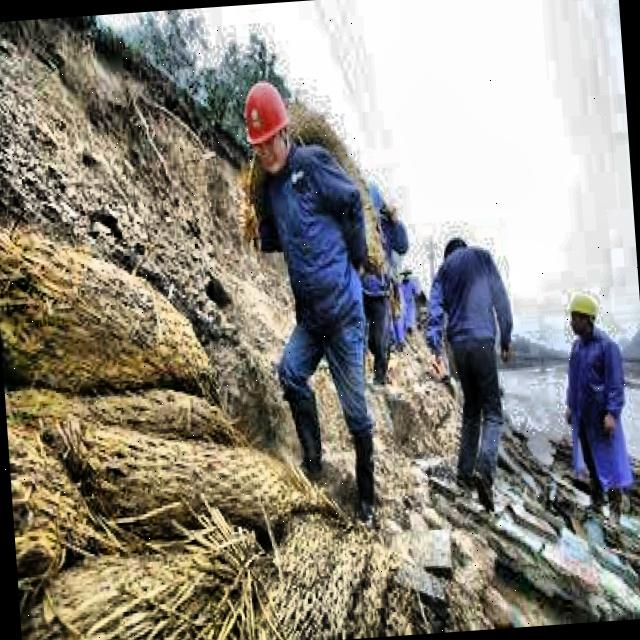helmet: (236, 73, 299, 177), (567, 294, 599, 344)
